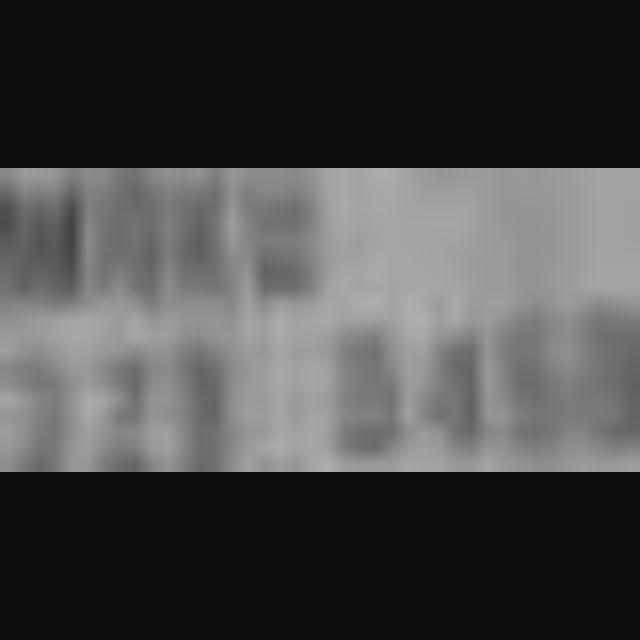2: (80, 336, 152, 472)
3: (320, 310, 408, 472), (158, 328, 234, 472), (8, 332, 76, 472)
4: (410, 293, 494, 467)
a: (99, 168, 173, 318)
m: (0, 168, 96, 316)
n: (172, 168, 240, 320)
